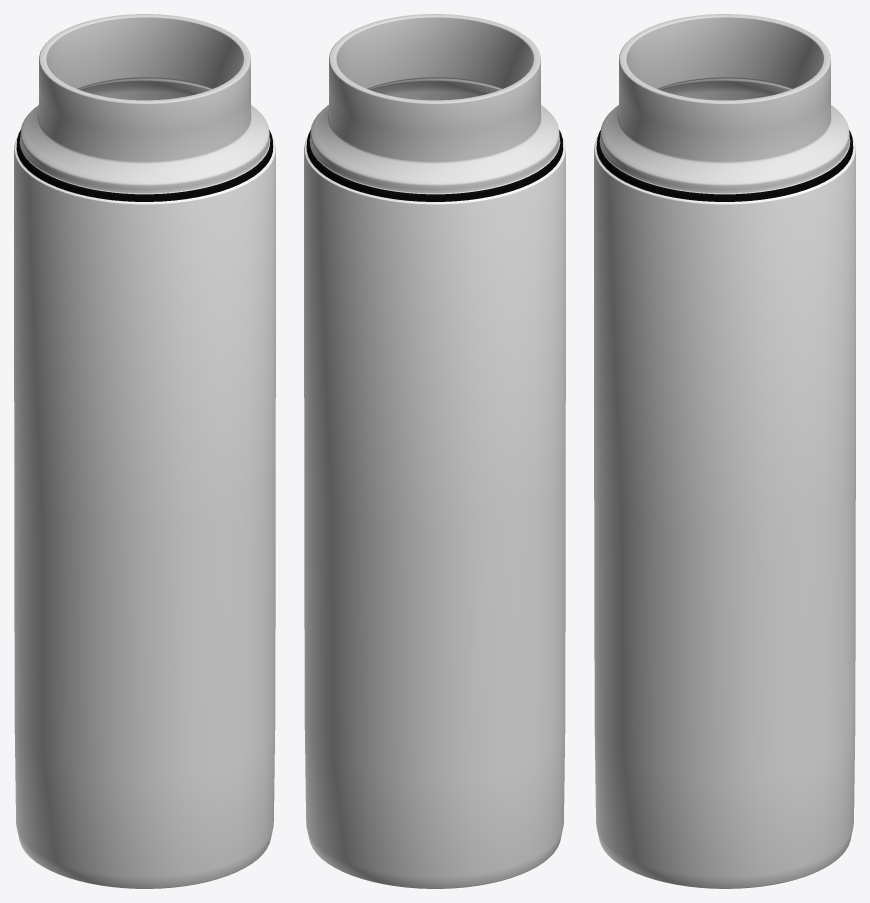
File: Bottel.glb
3 renders of one model, left to right at view 1: azimuth 30°, elevation 25°; view 2: azimuth 150°, elevation 25°; view 3: azimuth 270°, elevation 25°, orthographic.
Parts seen in each view (by area): view 1: Thermo Body; view 2: Thermo Body; view 3: Thermo Body.
Part boxes in pixels (x1,y1,x2,y2): Thermo Body: [14, 14, 275, 888]; Thermo Body: [304, 14, 565, 888]; Thermo Body: [594, 14, 855, 888].
Size of the model in its own units: 0.0883 by 0.2894 by 0.0883.
Materials: 3 (1 with a texture image).
